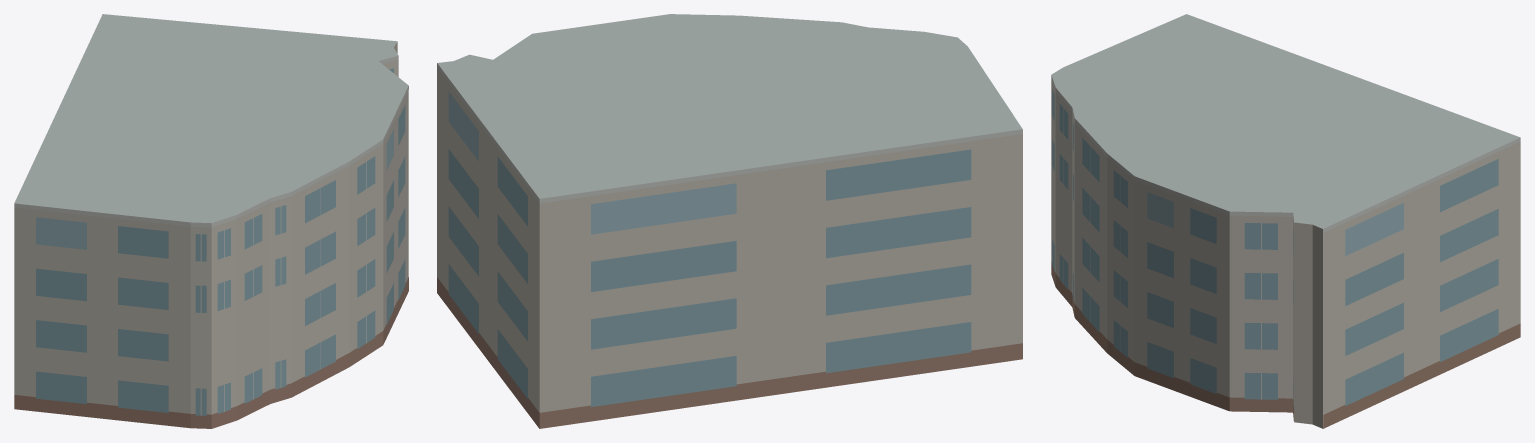
Rendered from survey-upis-32777610.glb.
The picture shows the model from 3 angles, left to right: view 1: azimuth 30°, elevation 25°; view 2: azimuth 150°, elevation 25°; view 3: azimuth 270°, elevation 25°; orthographic projection. The views are drawn at different scales.
Parts seen in each view (by area): view 1: survey-upis-32777610.tmp; view 2: survey-upis-32777610.tmp; view 3: survey-upis-32777610.tmp.
Part boxes in pixels (bbox=[...]): survey-upis-32777610.tmp: bbox=[14, 14, 408, 428]; survey-upis-32777610.tmp: bbox=[437, 14, 1022, 428]; survey-upis-32777610.tmp: bbox=[1051, 14, 1520, 428].
Size of the model in its own units: 28.16 by 12.2 by 25.97.
